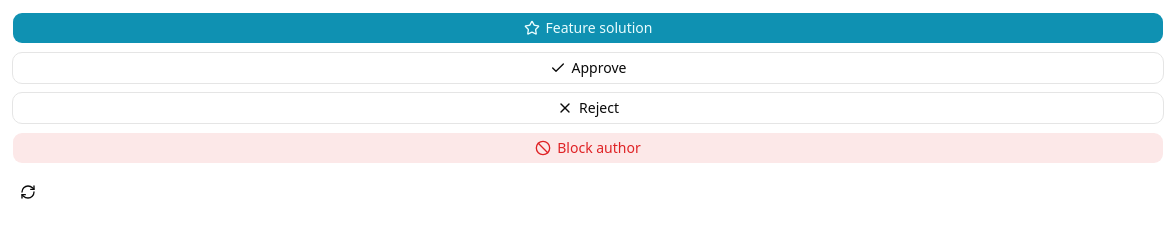
it: solution review actions › keeps the queue on SolutionSubmissionBlockedError
Click the button "Approve" at {"x": 588, "y": 68}, box [12,52,1164,84]
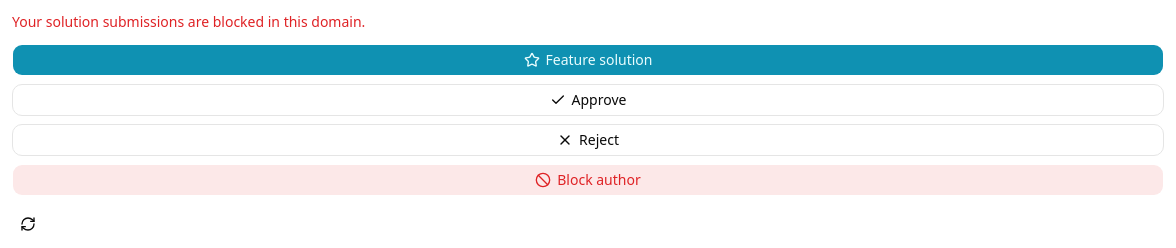
Check: the message reads "Your solution submissions are blocked in this domain.", box [12,12,365,31]
